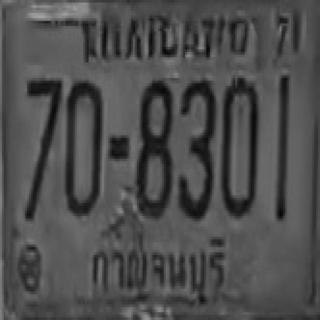N00: (220, 75, 258, 216), (64, 79, 102, 215)
N01: (276, 73, 289, 203)
N03: (177, 78, 214, 218)
N07: (23, 75, 62, 218)
N08: (135, 78, 172, 216)
P17: (87, 230, 232, 306)
